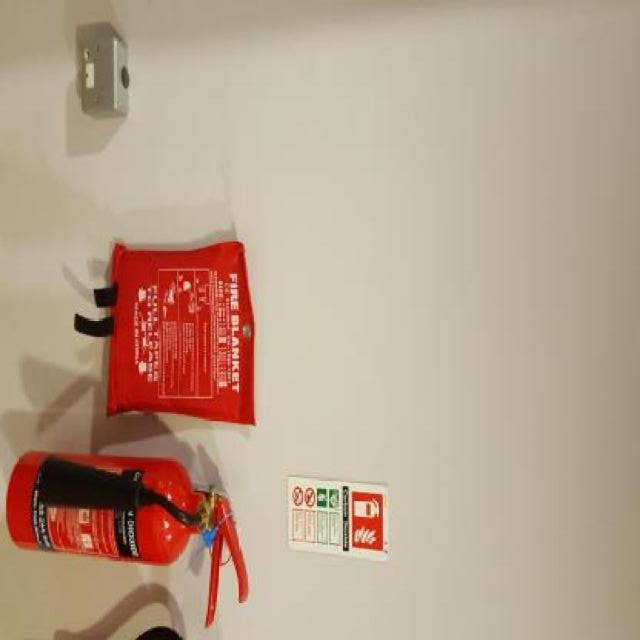fire extinguisher: (5, 450, 250, 621)
